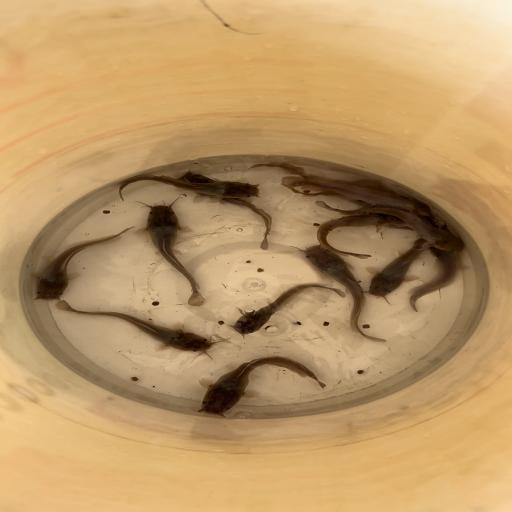lele: (301, 245, 388, 343), (196, 355, 327, 418), (55, 300, 213, 352), (313, 200, 467, 253), (31, 226, 136, 301), (176, 170, 274, 250), (141, 203, 209, 307), (279, 173, 433, 217), (231, 282, 347, 336), (249, 158, 396, 192), (407, 230, 462, 312), (117, 172, 261, 202), (316, 214, 408, 259), (362, 240, 431, 299), (283, 183, 367, 207)
